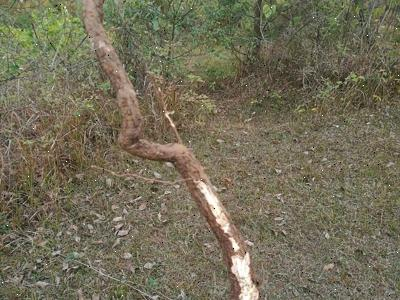Root: (82, 0, 258, 300)
